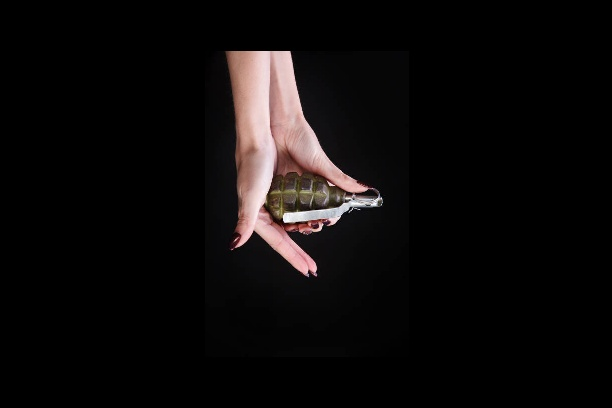e1: (254, 169, 385, 232)
